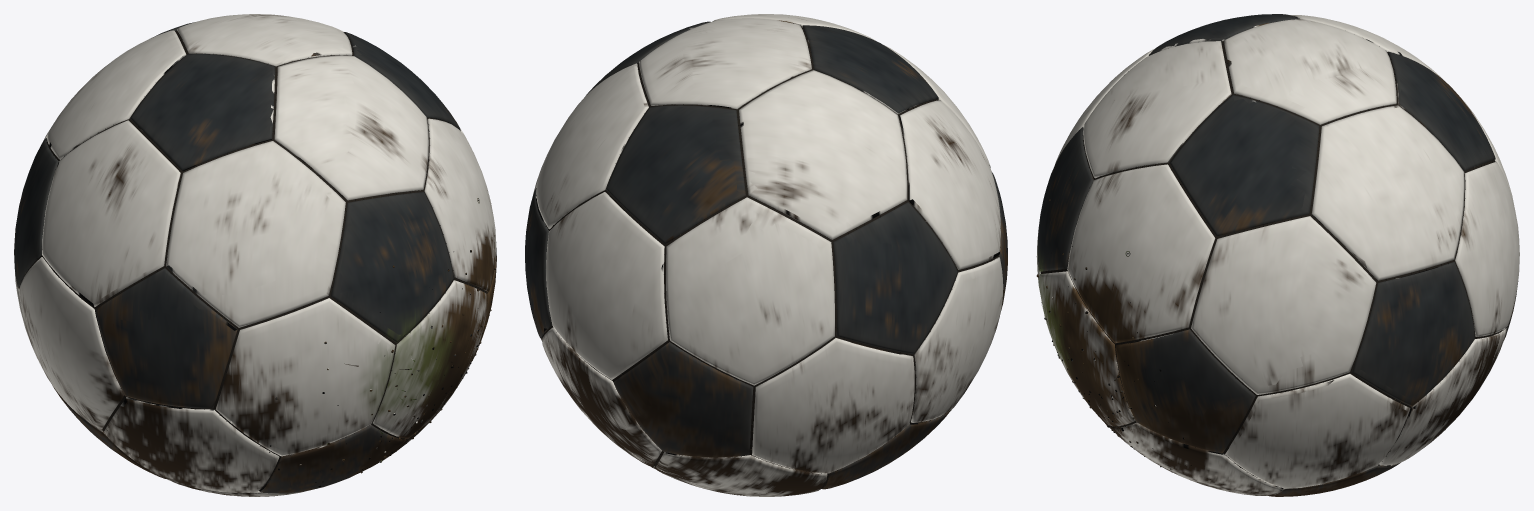
Rendered from soccer-ball-v1.glb.
The picture shows the model from 3 angles, left to right: view 1: azimuth 30°, elevation 25°; view 2: azimuth 150°, elevation 25°; view 3: azimuth 270°, elevation 25°; orthographic projection.
Parts seen in each view (by area): view 1: SoccerBall_22cm; view 2: SoccerBall_22cm; view 3: SoccerBall_22cm.
Boxes of the visible parts, <box> form: SoccerBall_22cm: <box>14,14,496,496</box>; SoccerBall_22cm: <box>525,14,1007,496</box>; SoccerBall_22cm: <box>1036,14,1519,496</box>.
Bounding box in the file's own units: 0.22 × 0.2201 × 0.2205.
Materials: 1 (1 with a texture image).
